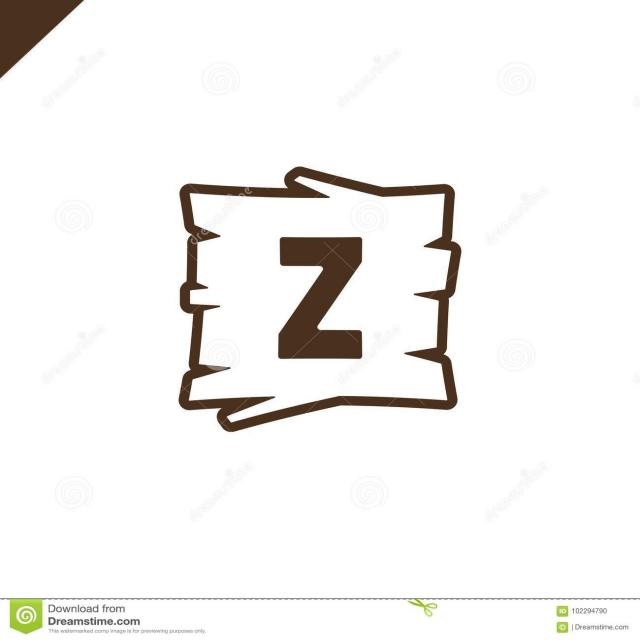Z: (266, 223, 381, 382)
